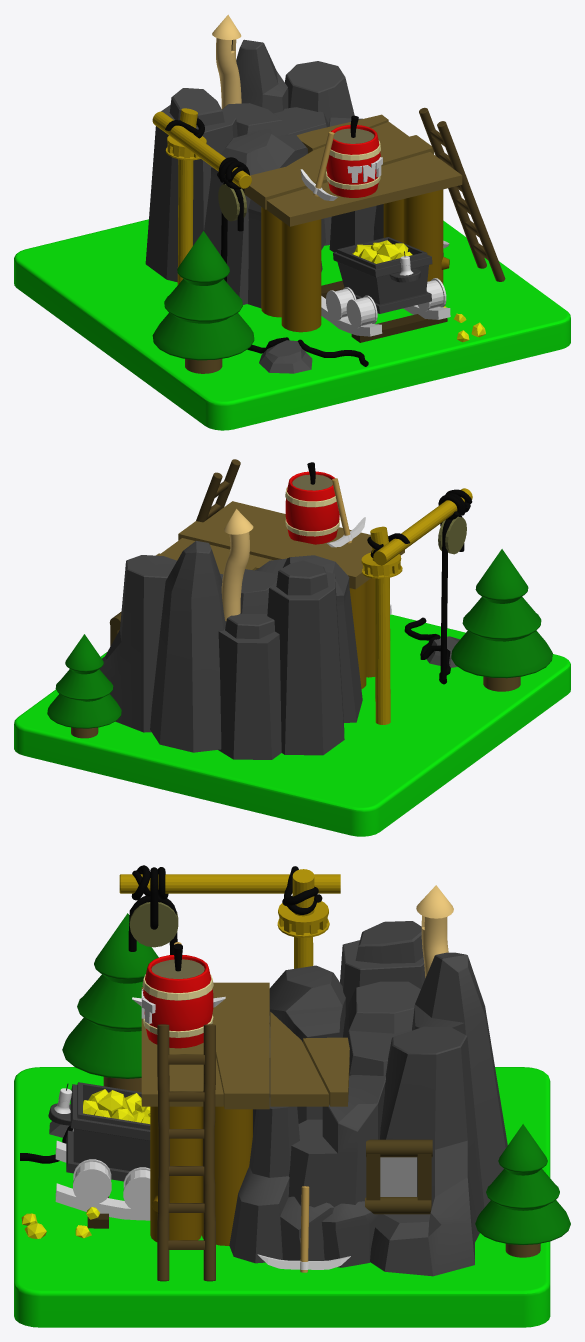
File: ahasmnasdasdasd.fbx
3 renders of one model, top to bottom at view 1: azimuth 30°, elevation 25°; view 2: azimuth 150°, elevation 25°; view 3: azimuth 270°, elevation 25°, orthographic. The views are drawn at different scales.
Parts seen in each view (by area): view 1: Base, Woodtop, Treegreen2, Rocks3, Rock1, Log1 (×2), Log2, Minecart, Cranepole1, Ladder, Rocks2, Rocks5 (+16 smaller); view 2: Base, Rocks5, Rocks3, Rocks6, Treegreen2, Rocks2, Woodtop, Cranepole1, Treegreen, Rock1, polySurface36, polySurface20 (+9 smaller); view 3: Base, Rocks2, Woodtop, Treegreen2, Ladder, Rocks5, Rocks7, Rocks4, Treegreen, Cranepole1, Minecart, Rocks1 (+20 smaller).
Boxes of the visible parts, <box> form: Base: <box>14,219,570,430</box>; Woodtop: <box>244,114,462,226</box>; Treegreen2: <box>152,231,254,360</box>; Rocks3: <box>145,88,237,282</box>; Rock1: <box>204,131,322,304</box>; Log1 (×2): <box>261,189,449,317</box>; Log2: <box>281,219,321,332</box>; Minecart: <box>333,237,432,313</box>; Cranepole1: <box>152,108,251,284</box>; Ladder: <box>419,107,505,281</box>; Rocks2: <box>285,61,354,245</box>; Rocks5: <box>236,39,325,249</box>; Base: <box>14,614,570,836</box>; Rocks5: <box>150,541,226,752</box>; Rocks3: <box>267,560,344,755</box>; Rocks6: <box>218,613,281,759</box>; Treegreen2: <box>451,549,552,678</box>; Rocks2: <box>99,555,176,732</box>; Woodtop: <box>156,501,404,589</box>; Cranepole1: <box>361,488,472,724</box>; Treegreen: <box>47,634,121,728</box>; Rock1: <box>255,555,362,722</box>; polySurface36: <box>285,471,339,544</box>; polySurface20: <box>221,509,253,621</box>; Base: <box>14,1067,550,1327</box>; Rocks2: <box>370,1026,484,1276</box>; Woodtop: <box>141,982,349,1109</box>; Treegreen2: <box>62,913,158,1078</box>; Ladder: <box>157,1024,215,1281</box>; Rocks5: <box>412,952,507,1207</box>; Rocks7: <box>288,1075,385,1207</box>; Rocks4: <box>229,1097,299,1263</box>; Treegreen: <box>475,1124,570,1244</box>; Cranepole1: <box>119,869,340,968</box>; Minecart: <box>48,1082,150,1181</box>; Rocks1: <box>343,981,420,1076</box>.
Bounding box in the file's own units: 14.16 × 9.85 × 14.23.
